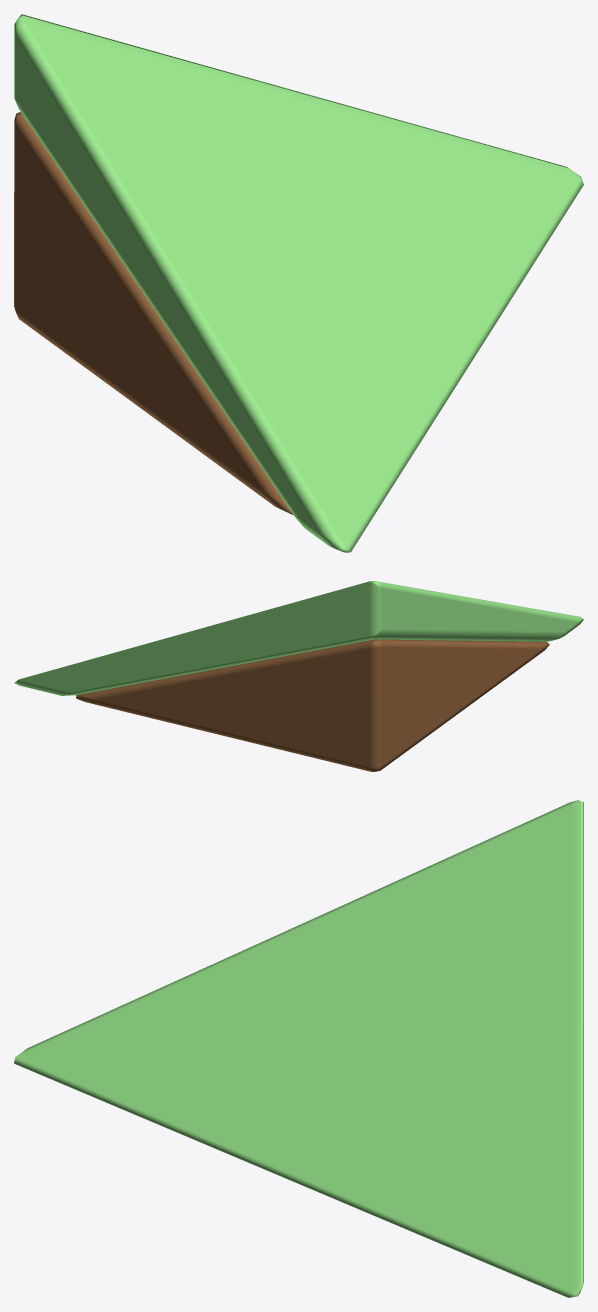
Rendered from Ramp - Corner - Upper - 0.5x1.glb.
The picture shows the model from 3 angles, top to bottom: view 1: azimuth 30°, elevation 25°; view 2: azimuth 150°, elevation 25°; view 3: azimuth 270°, elevation 25°; orthographic projection. The views are drawn at different scales.
Visible parts, largest first — view 1: Corner Ramp - Upper - 0.5x1; view 2: Corner Ramp - Upper - 0.5x1; view 3: Corner Ramp - Upper - 0.5x1.
Part boxes in pixels (<box>): Corner Ramp - Upper - 0.5x1: <box>14,14,583,552</box>; Corner Ramp - Upper - 0.5x1: <box>14,581,583,771</box>; Corner Ramp - Upper - 0.5x1: <box>14,800,583,1297</box>.
Size of the model in its own units: 1.92 by 0.9729 by 1.92.
